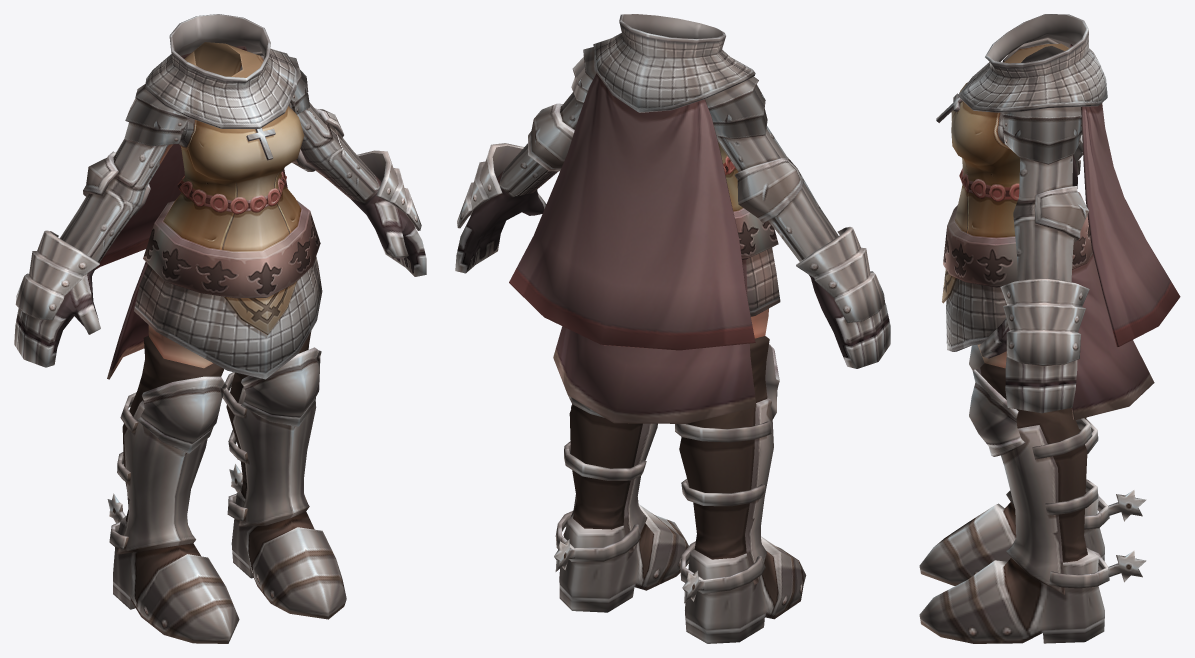
File: Cloth_Knight_100211.FBX
3 views of the same model, side by side, from view 1: azimuth 30°, elevation 25°; view 2: azimuth 150°, elevation 25°; view 3: azimuth 270°, elevation 25° (orthographic). The views are drawn at different scales.
Visible parts, largest first — view 1: Hero_Women_Knight; view 2: Hero_Women_Knight; view 3: Hero_Women_Knight.
Boxes of the visible parts, box(x1,y1,x2,y2) form: Hero_Women_Knight: box(14, 14, 426, 643); Hero_Women_Knight: box(455, 14, 890, 643); Hero_Women_Knight: box(919, 14, 1180, 643).
Size of the model in its own units: 116 by 158 by 65.34.
